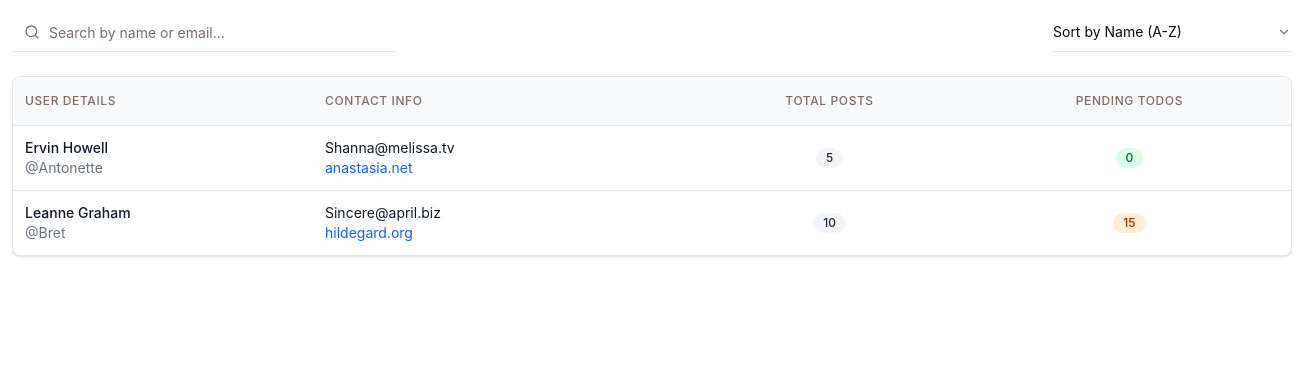
it: UsersTable Component › shows an empty state when filters remove all rows
// Type gibberish
In the field with placeholder "Search by name or email...": (204, 32) [12, 12, 396, 52], type "XYZ123NonExistent"
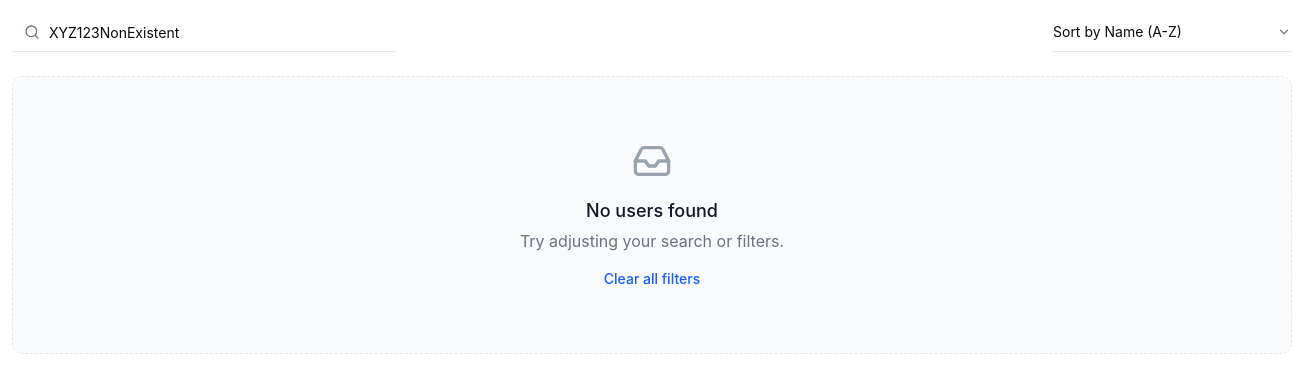
Result: the heading "No users found" is shown at [586, 197, 718, 225]
Result: the button "Clear all filters" is shown at [604, 269, 700, 289]
